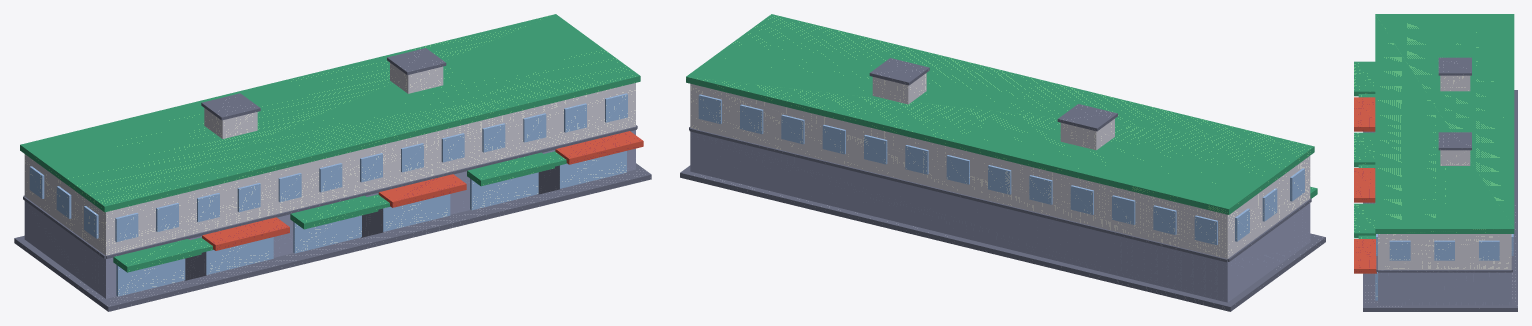
File: com-3x1-l2.glb
The picture shows the model from 3 angles, left to right: view 1: azimuth 30°, elevation 25°; view 2: azimuth 150°, elevation 25°; view 3: azimuth 270°, elevation 25°; orthographic projection. The views are drawn at different scales.
Parts seen in each view (by area): view 1: com-3x1-l2; view 2: com-3x1-l2; view 3: com-3x1-l2.
Boxes of the visible parts, x1,y1,x2,y2 form: com-3x1-l2: [14, 14, 651, 311]; com-3x1-l2: [680, 14, 1325, 311]; com-3x1-l2: [1354, 14, 1517, 311].
Size of the model in its own units: 5.86 by 1.25 by 1.86.
Materials: 1 (1 with a texture image).
